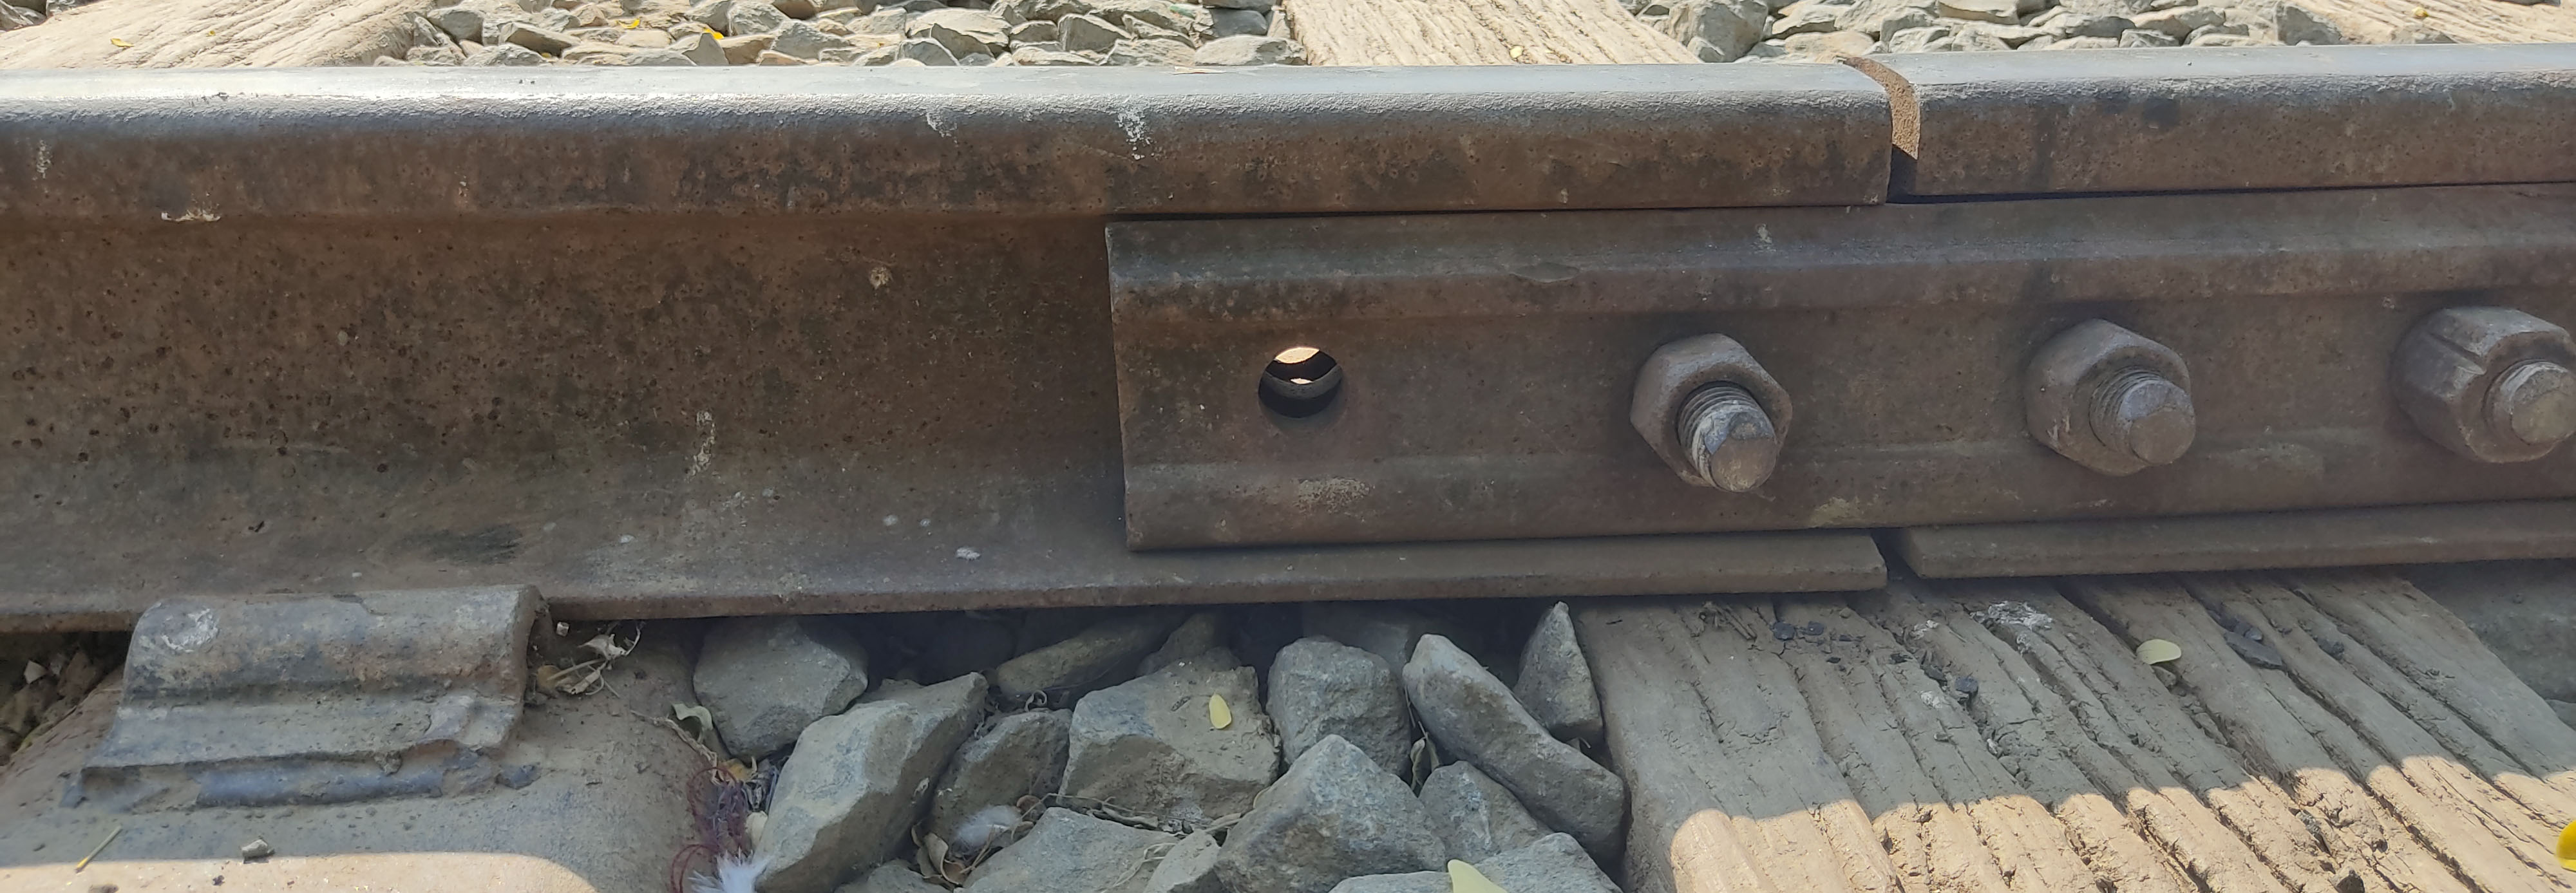error2: (1796, 2, 2034, 268)
